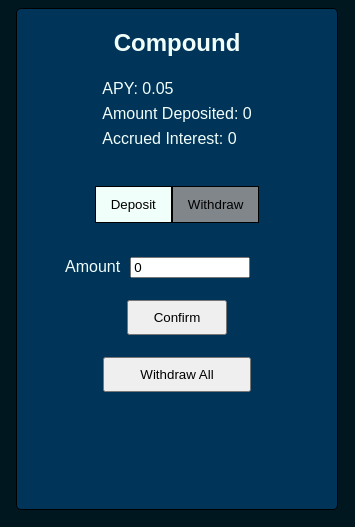
Scenario: transaction form › deposits USDC into correct service
Replace the text in the number field labelled "Amount" with "100". click: [190, 267]
box: x1=130 y1=257 x2=250 y2=278
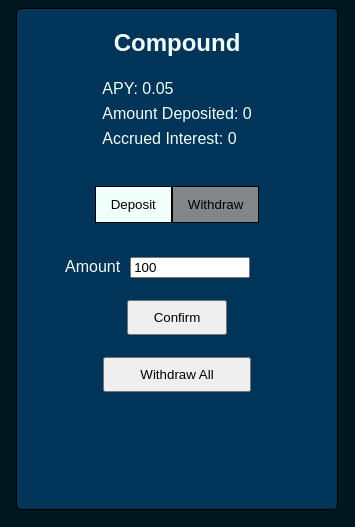
Click the button "Confirm". click: [177, 318]
box: x1=127 y1=300 x2=227 y2=335
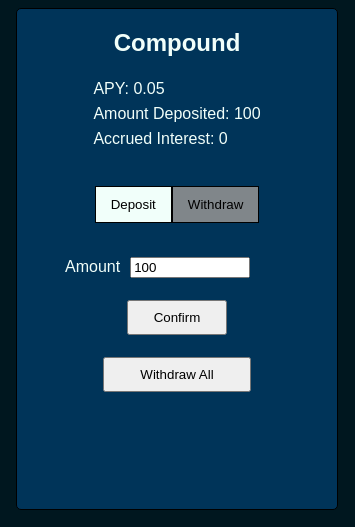
Now the text with test id "amountDeposited" reads "Amount Deposited: 100", box x1=93 y1=105 x2=261 y2=122
